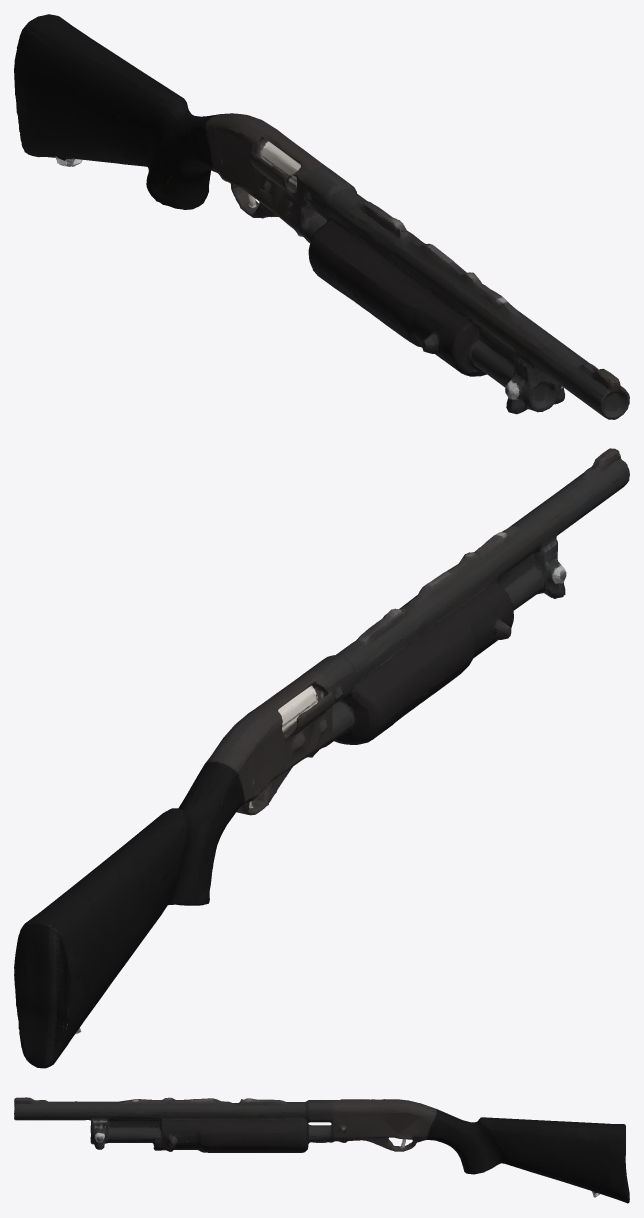
Rendered from remington.glb.
3 views of the same model, one above another, from view 1: azimuth 30°, elevation 25°; view 2: azimuth 150°, elevation 25°; view 3: azimuth 270°, elevation 25° (orthographic). The views are drawn at different scales.
Parts seen in each view (by area): view 1: remington; view 2: remington; view 3: remington.
Part boxes in pixels (<box>): remington: <box>14,14,629,419</box>; remington: <box>14,448,629,1068</box>; remington: <box>14,1097,629,1203</box>.
Size of the model in its own units: 0.0878 by 0.1878 by 1.
Materials: 1 (1 with a texture image).
